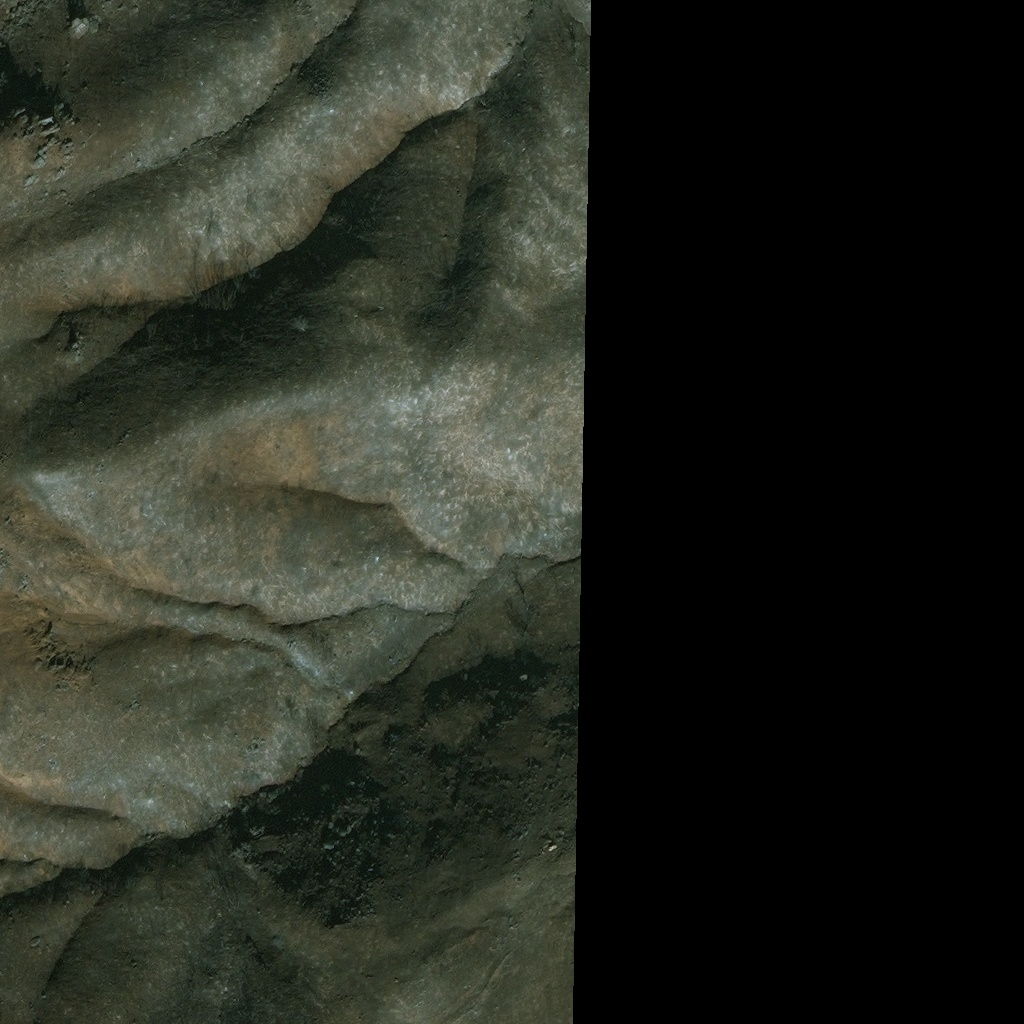4 un-classified: (10, 103, 61, 144), (71, 14, 94, 34)
